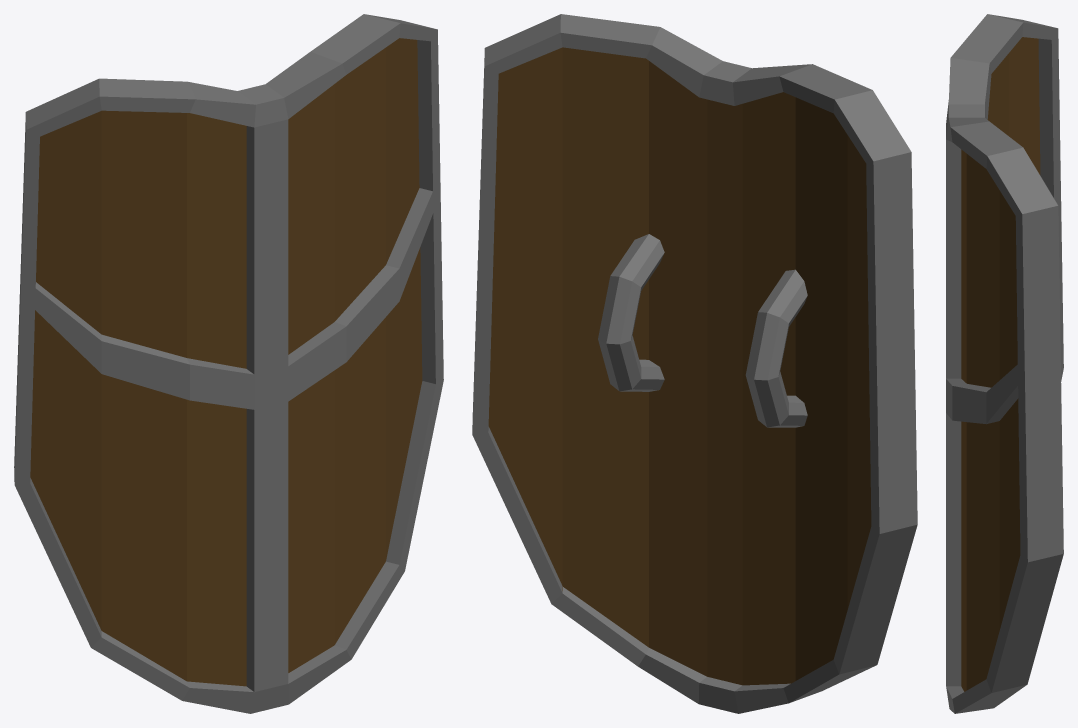
The model's file is Shield.fbx.
3 views of the same model, side by side, from view 1: azimuth 30°, elevation 25°; view 2: azimuth 150°, elevation 25°; view 3: azimuth 270°, elevation 25° (orthographic). The views are drawn at different scales.
Parts seen in each view (by area): view 1: Schild; view 2: Schild; view 3: Schild.
Boxes of the visible parts, x1,y1,x2,y2 form: Schild: (14,14,443,713); Schild: (472,14,917,713); Schild: (946,14,1063,713).
Bounding box in the file's own units: 0.4216 × 0.596 × 0.1035.
